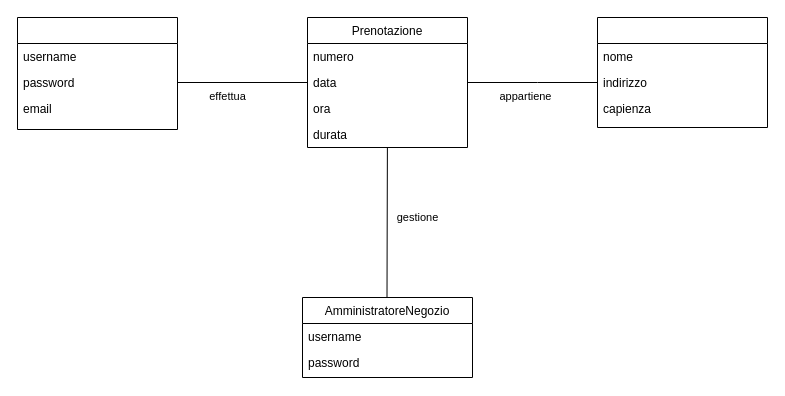
Some shapes in this 785 by 396 pixel diagram are drawn without their labels. The box of each missing label's shape, as (x1, y1, x2, y2) in pixels:
Negozio: (596, 16, 768, 128)
UtenteRegistrato: (16, 16, 178, 130)
